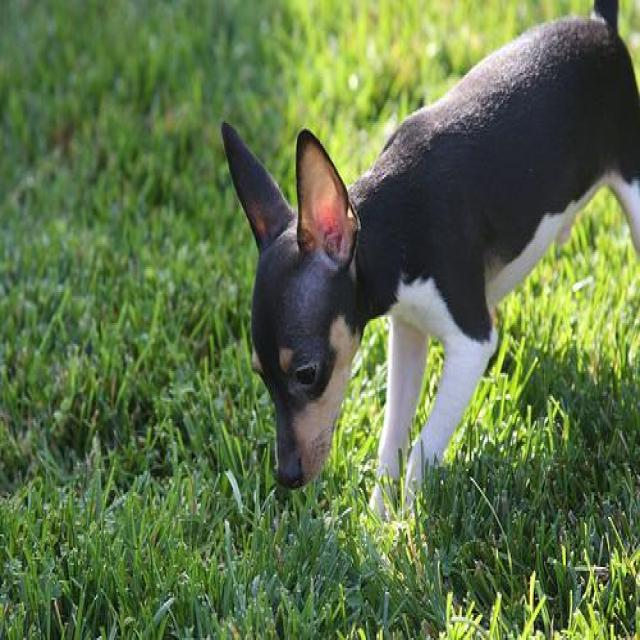toy_terrier: (217, 0, 638, 530)
